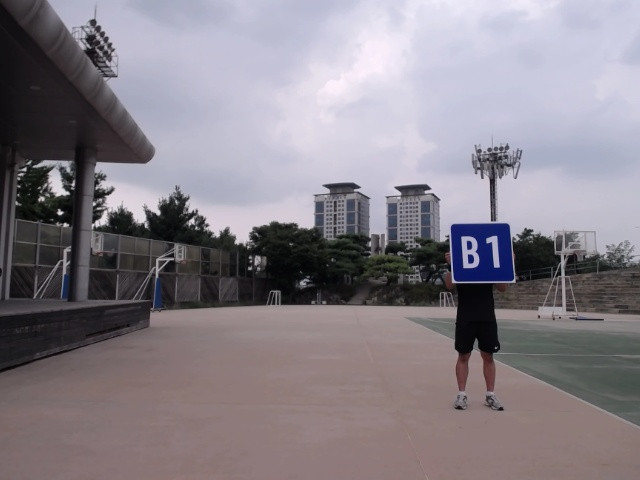delivery_b1: (449, 222, 515, 283)
